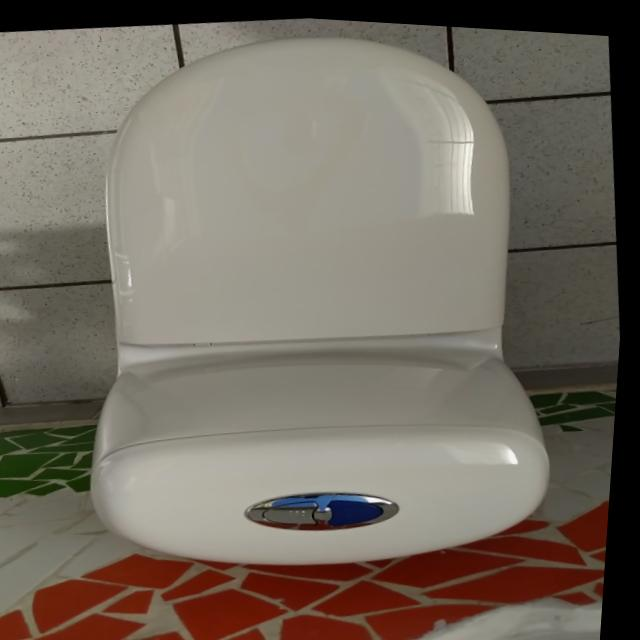toilet: (44, 3, 587, 594)
